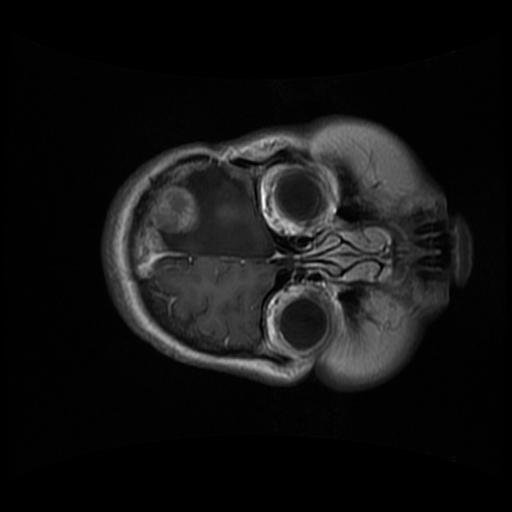glioma: (138, 187, 199, 249)
